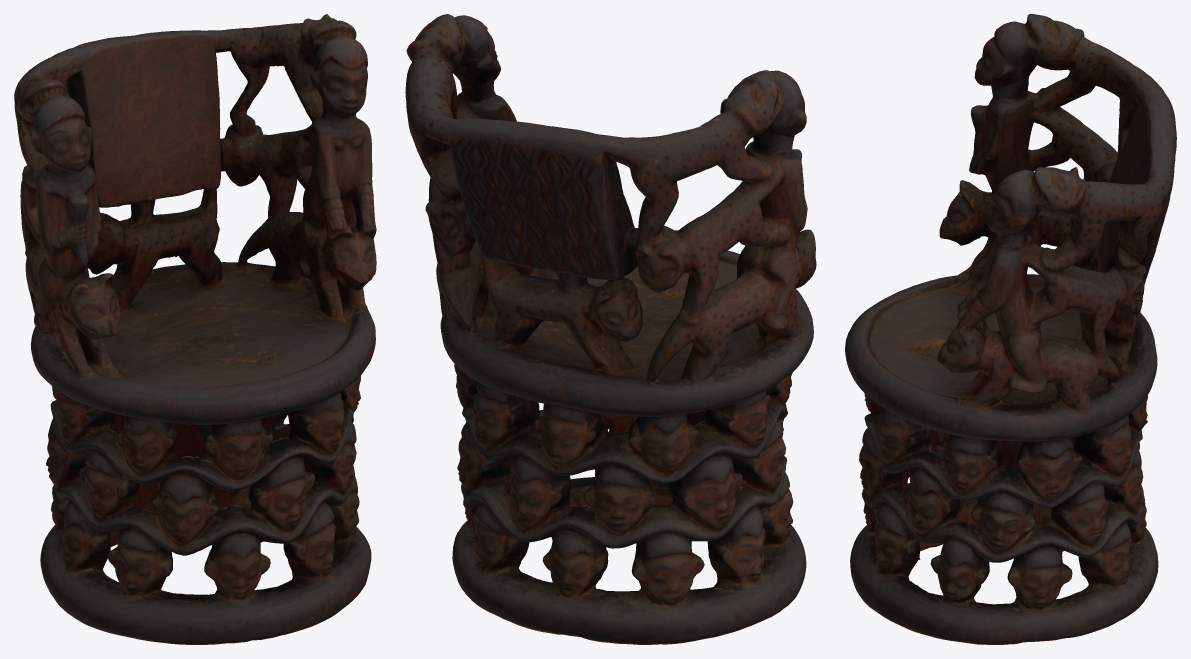
File: chairs-198333-prestige-chair-03d10a0c.glb
3 renders of one model, left to right at view 1: azimuth 30°, elevation 25°; view 2: azimuth 150°, elevation 25°; view 3: azimuth 270°, elevation 25°, orthographic. The views are drawn at different scales.
Parts seen in each view (by area): view 1: Object_2, Object_3; view 2: Object_3, Object_2; view 3: Object_2, Object_3.
Part boxes in pixels (x1,y1,x2,y2): Object_2: [14, 23, 376, 641]; Object_3: [22, 14, 376, 644]; Object_3: [406, 14, 816, 644]; Object_2: [405, 61, 807, 583]; Object_2: [845, 14, 1176, 607]; Object_3: [850, 66, 1176, 644].
Bounding box in the file's own units: 0.5536 × 0.802 × 0.4824.
Materials: 1 (1 with a texture image).
